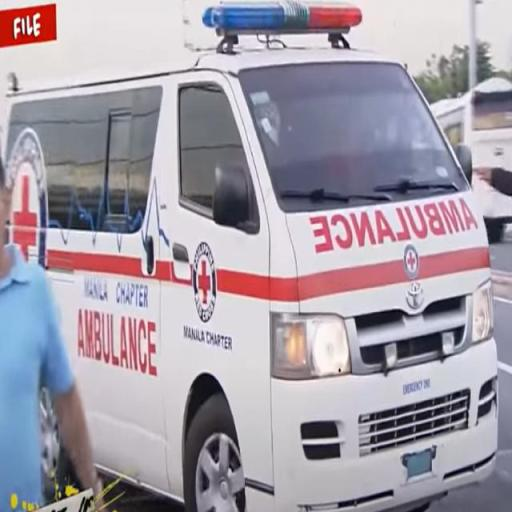Police car: (6, 2, 499, 512)
